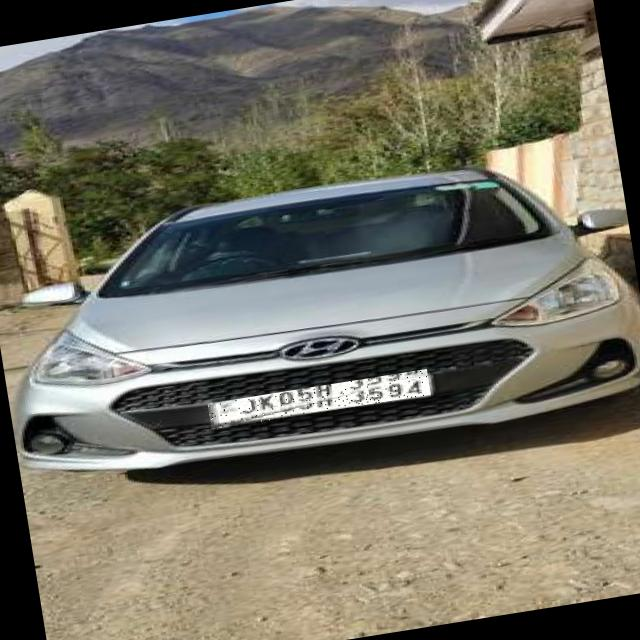Plate: (209, 370, 432, 430)
